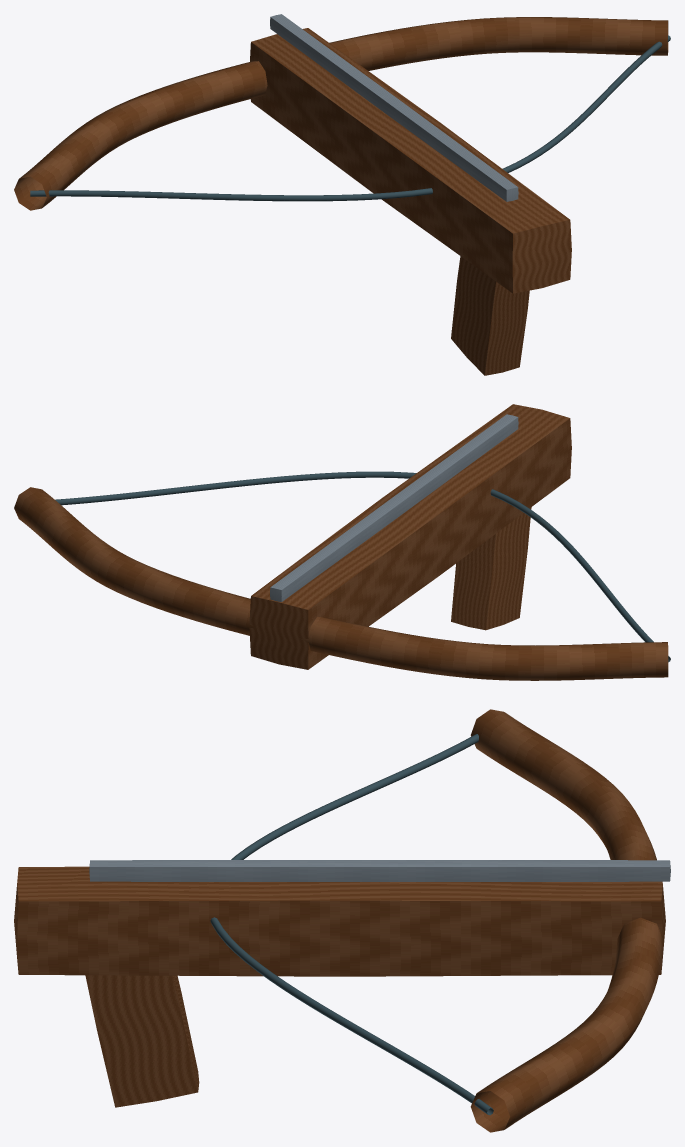
File: crossbow.glb
3 renders of one model, top to bottom at view 1: azimuth 30°, elevation 25°; view 2: azimuth 150°, elevation 25°; view 3: azimuth 270°, elevation 25°, orthographic. The views are drawn at different scales.
Parts seen in each view (by area): view 1: wood.0, wood.2, wood.1, steel.4, cloth.3; view 2: wood.0, wood.2, wood.1, steel.4, cloth.3; view 3: wood.0, wood.2, steel.4, wood.1, cloth.3.
Boxes of the visible parts, <box> form: wood.0: <box>250,28,571,293</box>; wood.2: <box>14,17,668,210</box>; wood.1: <box>451,256,529,375</box>; steel.4: <box>270,14,518,201</box>; cloth.3: <box>30,35,670,201</box>; wood.0: <box>249,404,571,669</box>; wood.2: <box>14,487,668,680</box>; wood.1: <box>451,507,531,630</box>; steel.4: <box>270,414,518,601</box>; cloth.3: <box>55,471,670,662</box>; wood.0: <box>14,866,665,976</box>; wood.2: <box>470,709,663,1132</box>; steel.4: <box>89,860,670,881</box>; wood.1: <box>85,975,199,1107</box>; cloth.3: <box>210,734,493,1115</box>.
Bounding box in the file's own units: 0.9237 × 0.2589 × 0.655.
3 materials, 3 textured.
